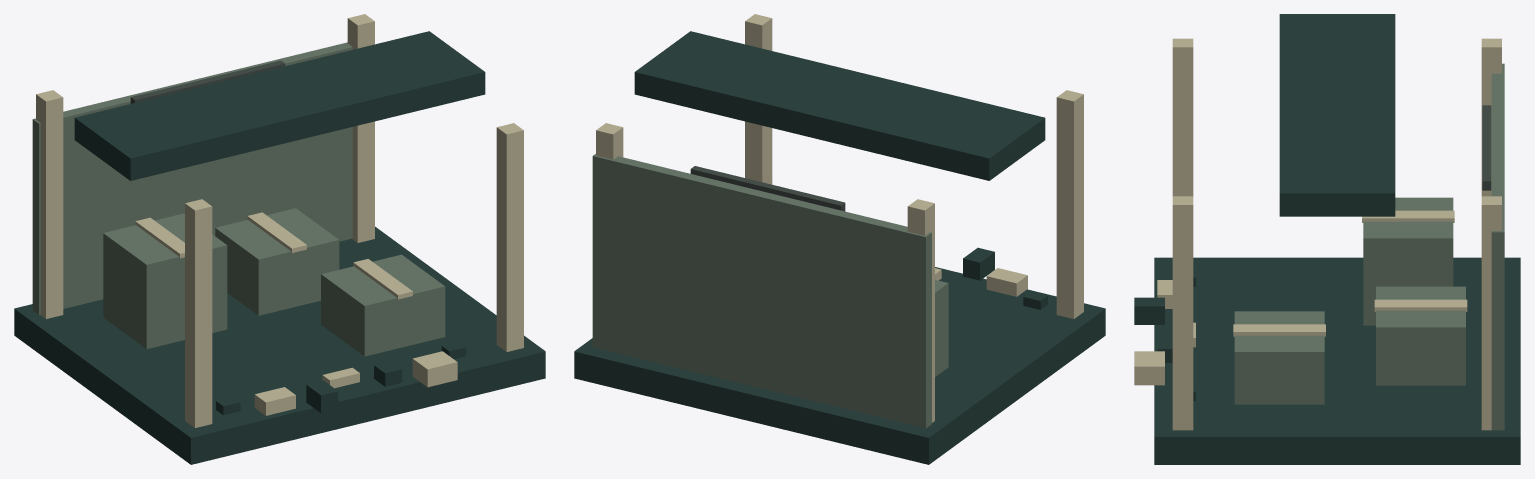
Rendered from shed-breached.glb.
3 views of the same model, side by side, from view 1: azimuth 30°, elevation 25°; view 2: azimuth 150°, elevation 25°; view 3: azimuth 270°, elevation 25° (orthographic). The views are drawn at different scales.
Visible parts, largest first — view 1: shed-breached; view 2: shed-breached; view 3: shed-breached.
Boxes of the visible parts, <box> form: shed-breached: <box>14,14,545,464</box>; shed-breached: <box>574,14,1105,464</box>; shed-breached: <box>1134,14,1520,464</box>.
Size of the model in its own units: 3.3 by 2.33 by 3.
